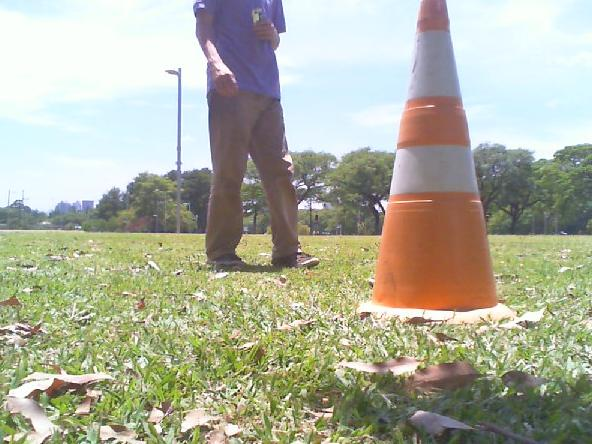0 cone: (357, 0, 515, 324)
